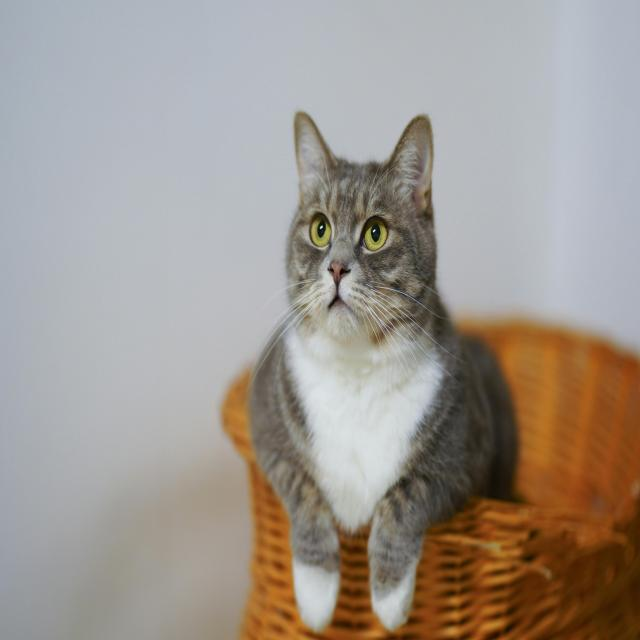cat: (250, 113, 518, 631)
